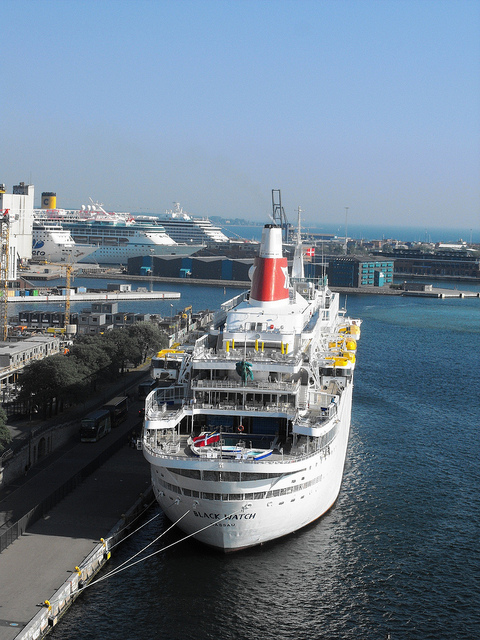cruise_ship: (138, 233, 361, 554), (41, 201, 204, 256)
